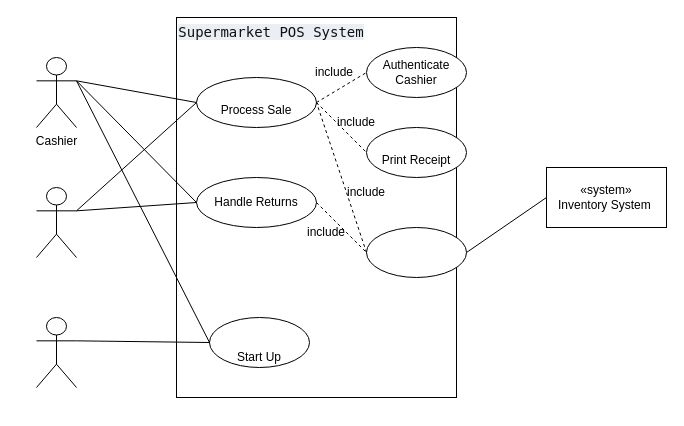
The diagram is 684 pixels wide and 426 high, and some of its shapes have lost their labels. Each missing label, with the centre of its shape:
Customer: point (56, 222)
Store Manager: point (56, 352)
Update Inventory: point (416, 252)
